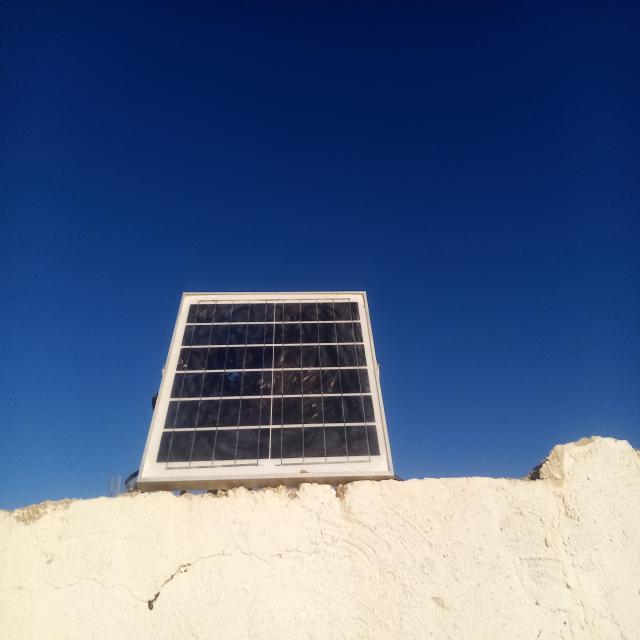faulty: (138, 293, 392, 480)
